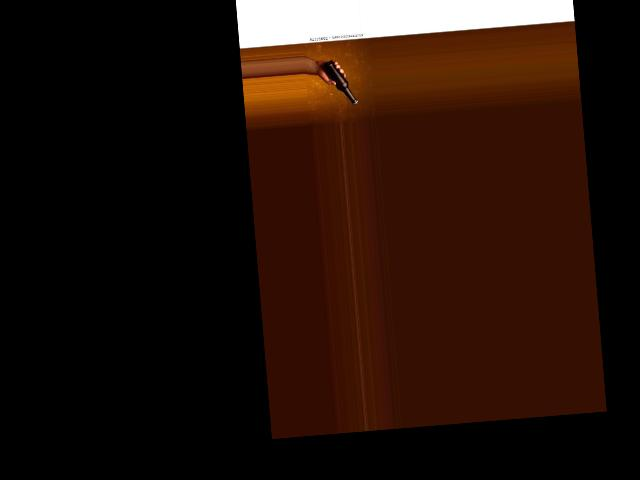beer: (320, 58, 358, 107)
